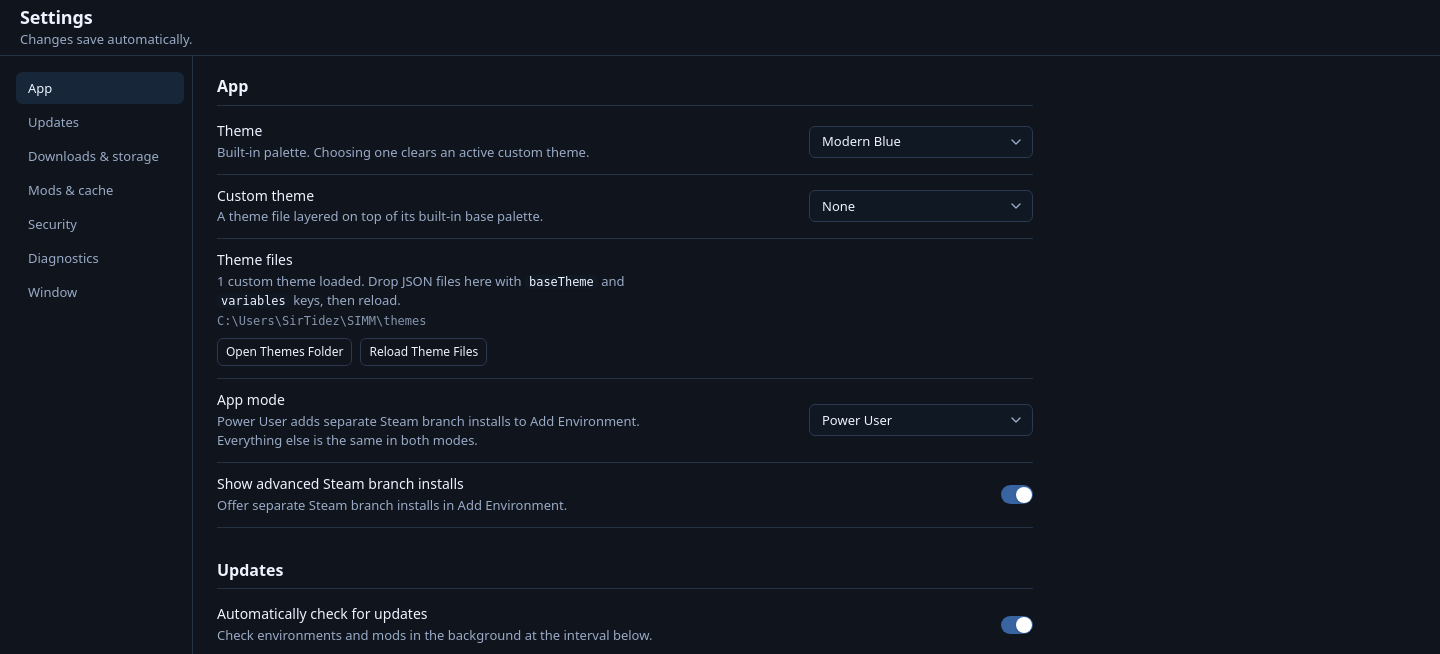
Test case: Settings › reloads theme files from settings
Click the button "Reload Theme Files": (424,352) [360,338,487,366]
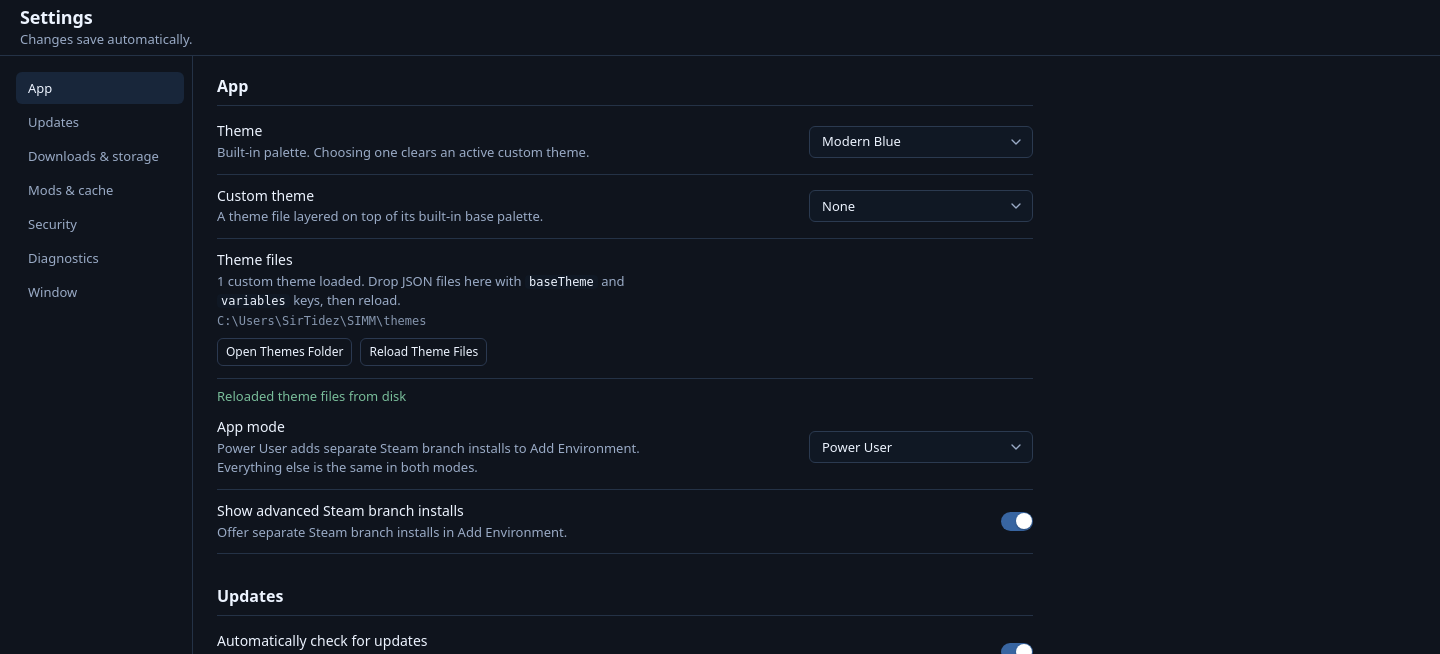
Expected: the text "Reloaded theme files from disk" is shown, [217,387,406,405]
